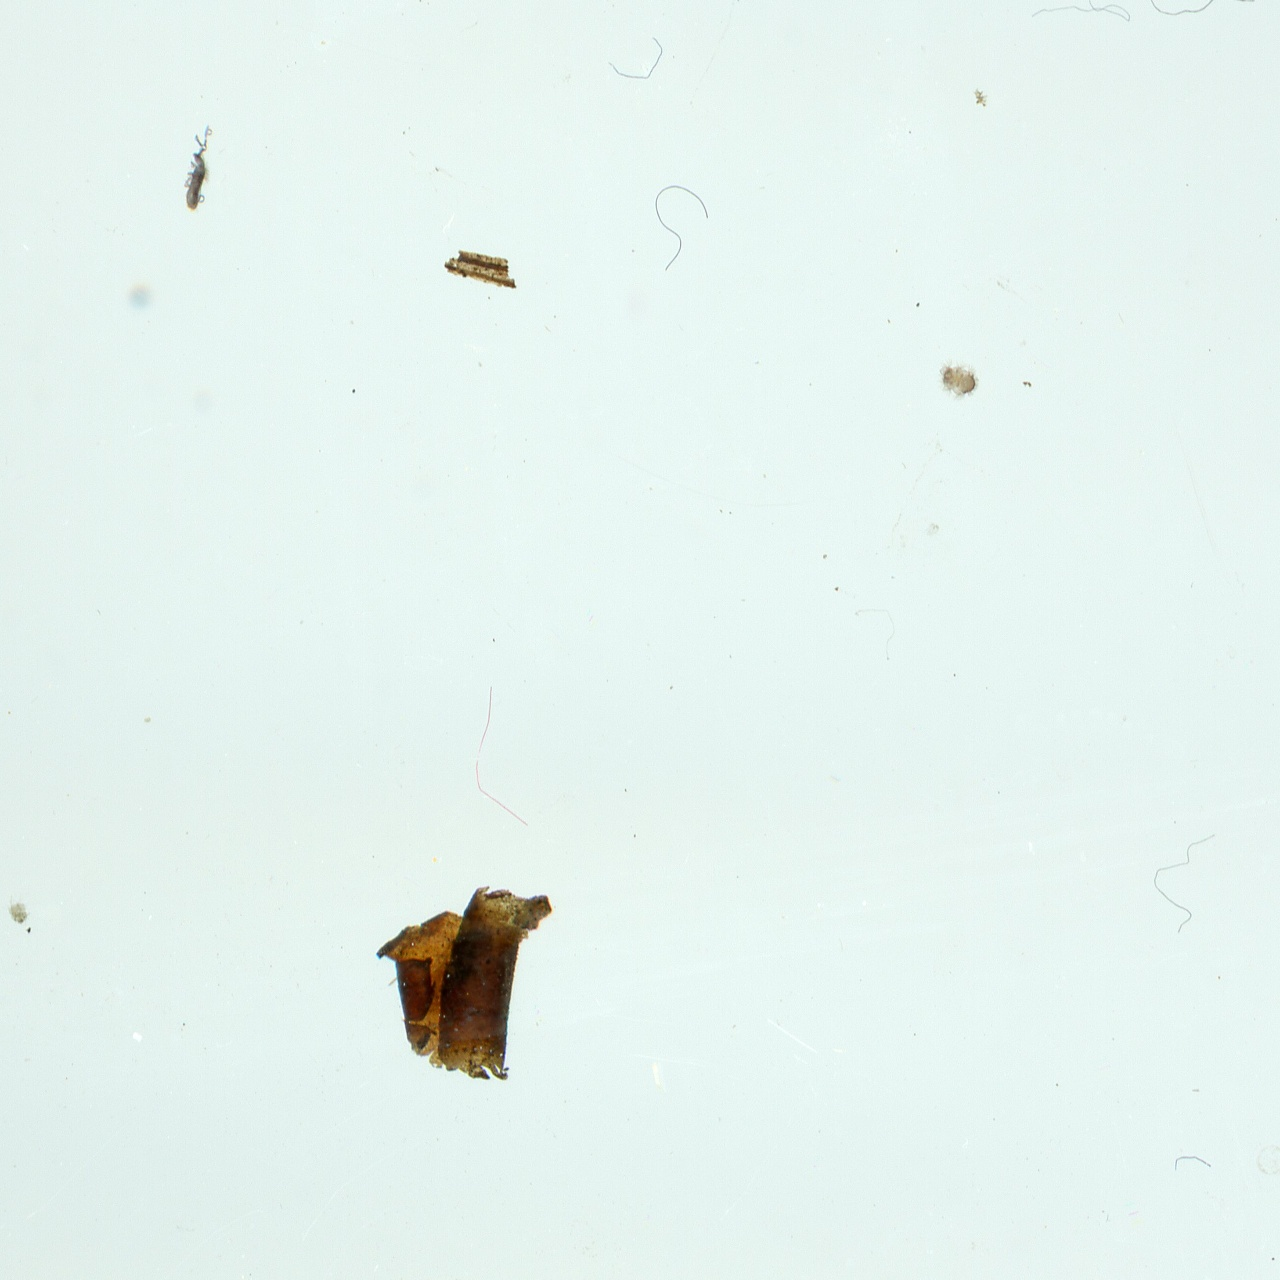arthropod: (184, 120, 216, 220)
